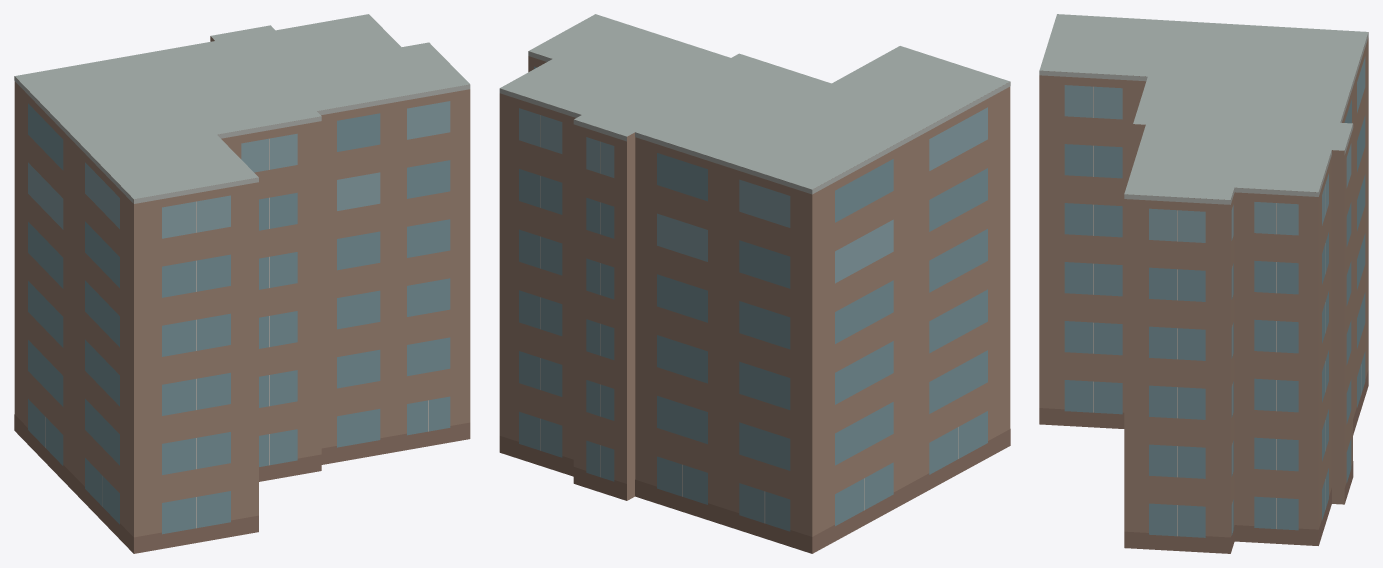
File: survey-upis-32665242.glb
3 views of the same model, side by side, from view 1: azimuth 30°, elevation 25°; view 2: azimuth 150°, elevation 25°; view 3: azimuth 270°, elevation 25° (orthographic). The views are drawn at different scales.
Visible parts, largest first — view 1: survey-upis-32665242.tmp; view 2: survey-upis-32665242.tmp; view 3: survey-upis-32665242.tmp.
Part boxes in pixels (box(x1,y1,x2,y2)): survey-upis-32665242.tmp: box(14, 14, 470, 553); survey-upis-32665242.tmp: box(499, 14, 1010, 553); survey-upis-32665242.tmp: box(1039, 14, 1368, 553).
Size of the model in its own units: 20.48 by 18.15 by 15.31.
